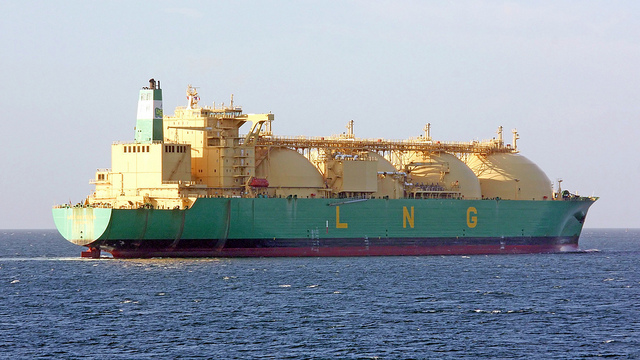LNG_ship: (51, 74, 603, 260)
